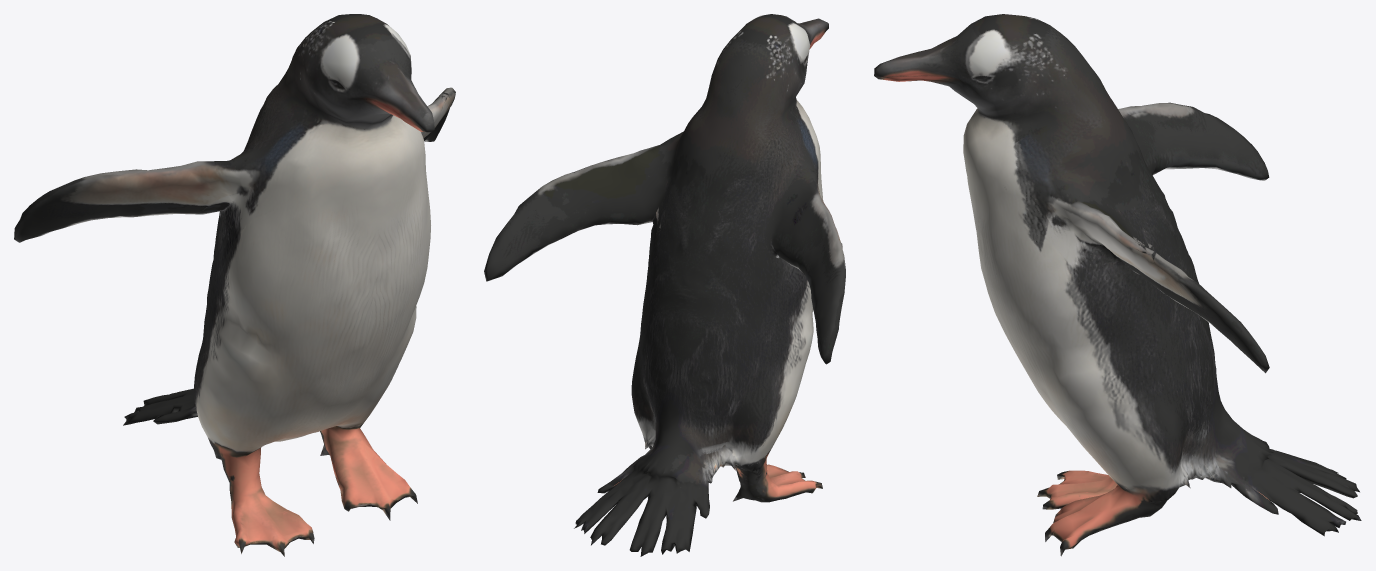
The model's file is asset.gltf.
3 renders of one model, left to right at view 1: azimuth 30°, elevation 25°; view 2: azimuth 150°, elevation 25°; view 3: azimuth 270°, elevation 25°, orthographic. The views are drawn at different scales.
Visible parts, largest first — view 1: Meshy_Mesh1.0; view 2: Meshy_Mesh1.0; view 3: Meshy_Mesh1.0.
Boxes of the visible parts, bbox=[...] form: Meshy_Mesh1.0: bbox=[14, 14, 455, 556]; Meshy_Mesh1.0: bbox=[484, 14, 845, 556]; Meshy_Mesh1.0: bbox=[874, 14, 1361, 556].
Size of the model in its own units: 1.6 by 1.91 by 1.67.
Materials: 1 (1 with a texture image).
